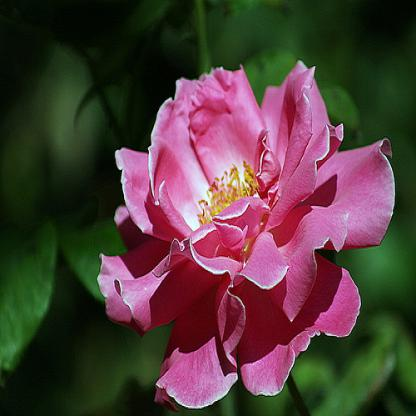ROSE-MAWAR: (88, 56, 397, 409)
